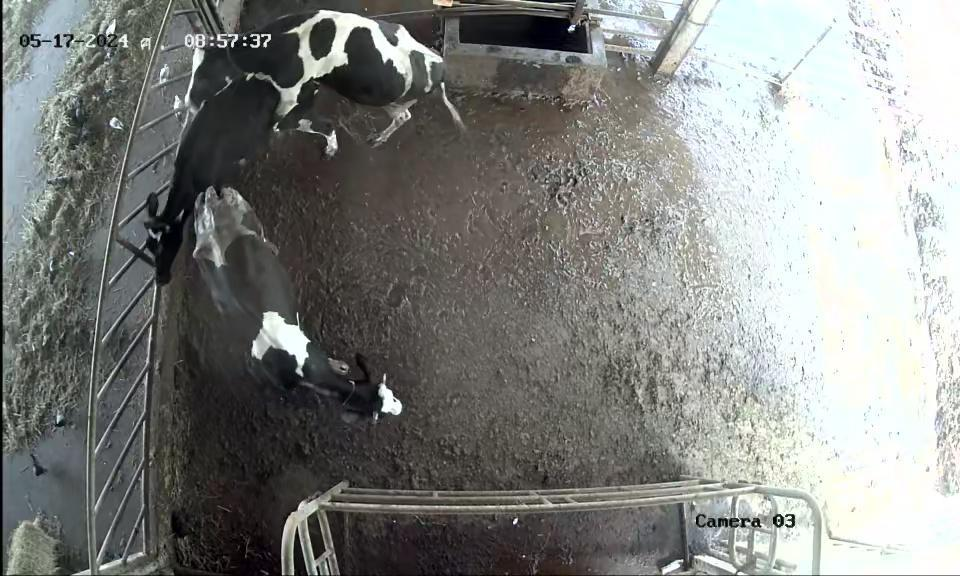ride: (177, 11, 467, 171)
stand: (177, 181, 409, 438), (134, 71, 291, 291)
